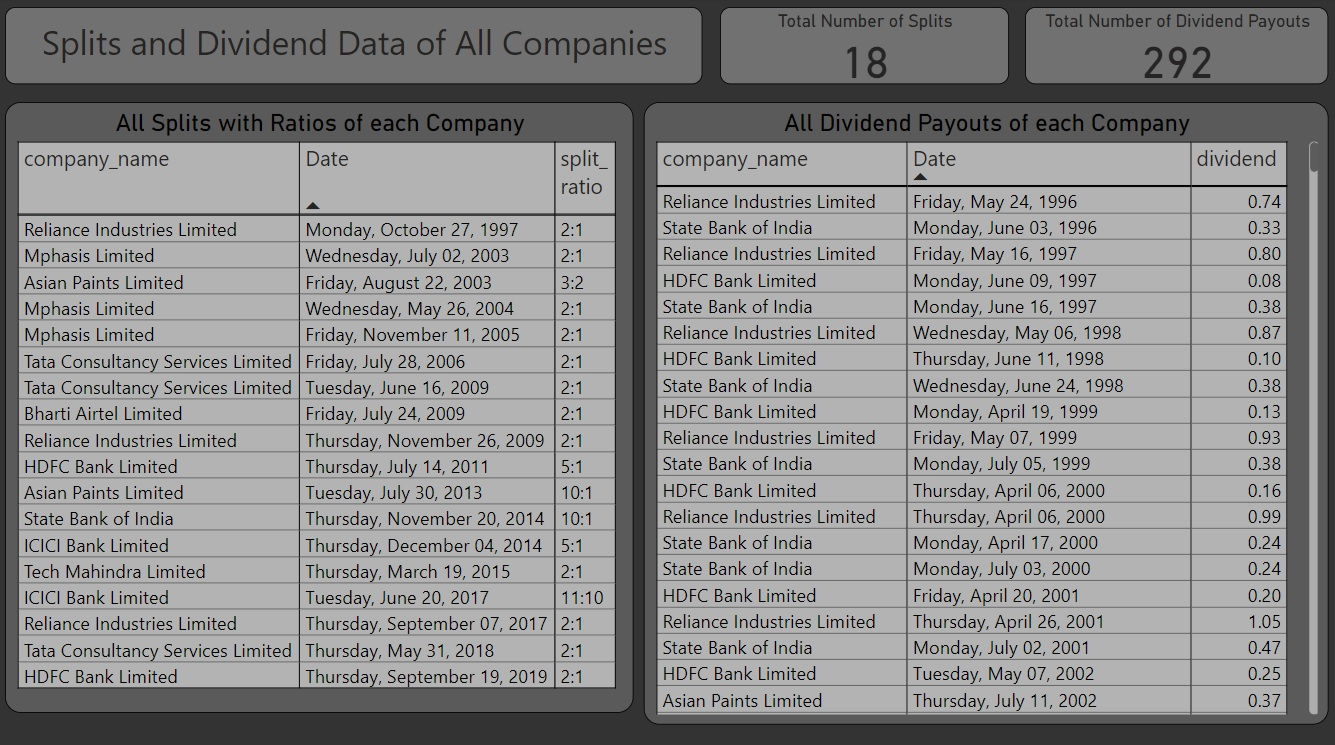

This screenshot's page, from the dashboard's own definition file:
{"tool":"powerbi","page":{"name":"Splits and Dividend Tables","canvas":[1280,720],"ordinal":2},"visuals":[{"type":"textbox","box":[9.5,9.5,664.1,73.8],"z":0},{"type":"tableEx","title":"All Splits with Ratios of each Company","fields":{"Values":["public equity.company_name","split_data.Date","split_data.split_ratio"]},"box":[9.5,100,598.6,582],"z":1000},{"type":"tableEx","title":"All Dividend Payouts of each Company","fields":{"Values":["public equity.company_name","dividend_data.Date","dividend_data.dividend"]},"box":[617.7,100,652.2,592.7],"z":2000},{"type":"card","title":"Total Number of Splits","fields":{"Values":["CountNonNull(split_data.split_ratio)"]},"box":[690.2,9.5,274.9,73.8],"z":2001},{"type":"card","title":"Total Number of Dividend Payouts","fields":{"Values":["CountNonNull(dividend_data.dividend)"]},"box":[980.6,9.5,289.2,73.8],"z":2002}]}

Visuals, with their boxes in screenshot pixels (x1, y1, x2, y2), scaled from the page's 1280x720 canvas onto the 1335x745 screenshot:
textbox: x1=10 y1=10 x2=703 y2=86
"All Splits with Ratios of each Company" tableEx: x1=10 y1=103 x2=634 y2=706
"All Dividend Payouts of each Company" tableEx: x1=644 y1=103 x2=1324 y2=717
"Total Number of Splits" card: x1=720 y1=10 x2=1007 y2=86
"Total Number of Dividend Payouts" card: x1=1023 y1=10 x2=1324 y2=86
